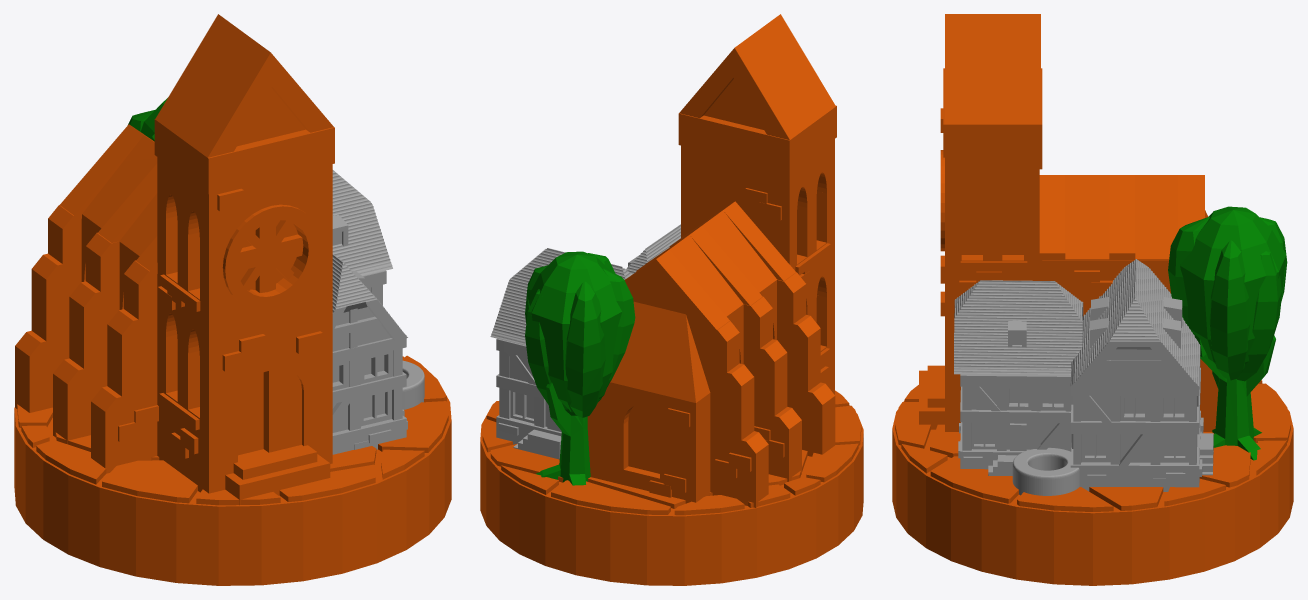
File: settlements.glb
The picture shows the model from 3 angles, left to right: view 1: azimuth 30°, elevation 25°; view 2: azimuth 150°, elevation 25°; view 3: azimuth 270°, elevation 25°; orthographic projection. The views are drawn at different scales.
Parts seen in each view (by area): view 1: settlements; view 2: settlements; view 3: settlements.
Boxes of the visible parts, <box> form: settlements: <box>14,14,451,585</box>; settlements: <box>480,14,863,585</box>; settlements: <box>892,14,1293,585</box>.
Bounding box in the file's own units: 15 × 19.3 × 15.
